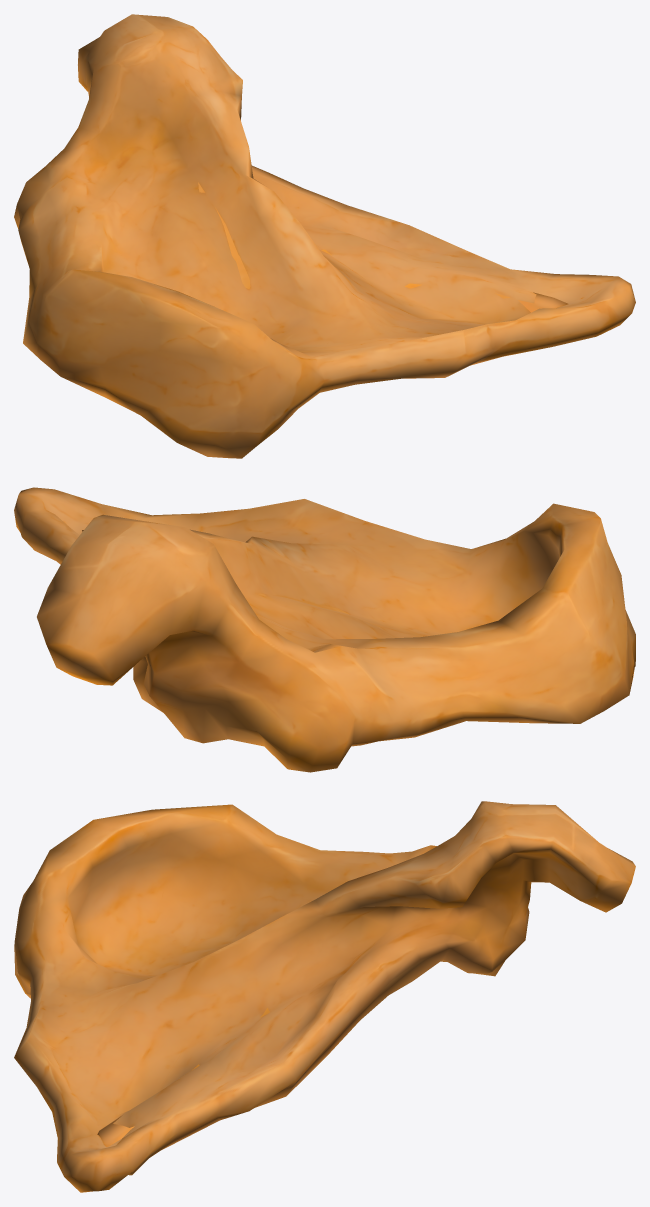
The model's file is Scapula.glb.
The picture shows the model from 3 angles, top to bottom: view 1: azimuth 30°, elevation 25°; view 2: azimuth 150°, elevation 25°; view 3: azimuth 270°, elevation 25°; orthographic projection. The views are drawn at different scales.
Visible parts, largest first — view 1: geometry_0; view 2: geometry_0; view 3: geometry_0.
Part boxes in pixels (bbox=[...]): geometry_0: bbox=[14, 14, 635, 458]; geometry_0: bbox=[14, 487, 635, 772]; geometry_0: bbox=[14, 801, 635, 1192].
Bounding box in the file's own units: 1 × 0.447 × 0.9392.
1 material, 1 textured.
